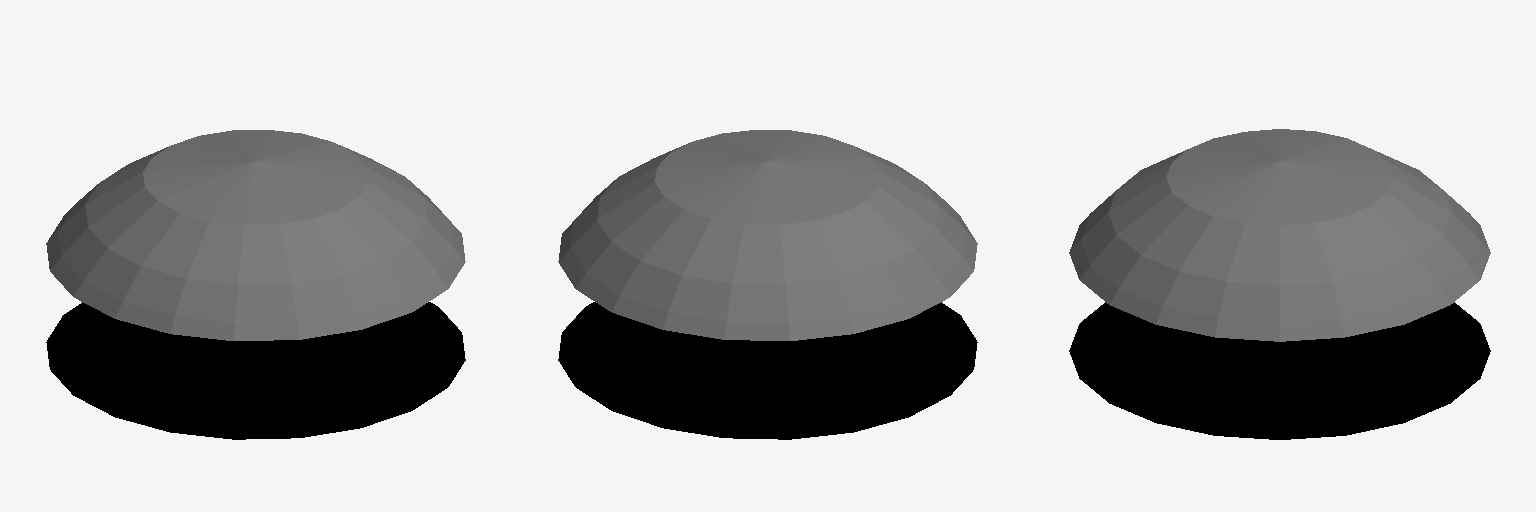
Rendered from yukayane.obj.
The picture shows the model from 3 angles: view 1: azimuth 30°, elevation 25°; view 2: azimuth 150°, elevation 25°; view 3: azimuth 270°, elevation 25°; orthographic projection.
Visible parts, largest first — view 1: yane gaikaku, gaikaku yuka; view 2: yane gaikaku, gaikaku yuka; view 3: yane gaikaku, gaikaku yuka.
Part boxes in pixels (x1,y1,x2,y2): yane gaikaku: (46,130,465,340); gaikaku yuka: (46,302,465,439); yane gaikaku: (558,130,977,340); gaikaku yuka: (558,302,977,439); yane gaikaku: (1069,129,1490,341); gaikaku yuka: (1069,302,1490,439).
Bounding box in the file's own units: 800 × 398 × 800.